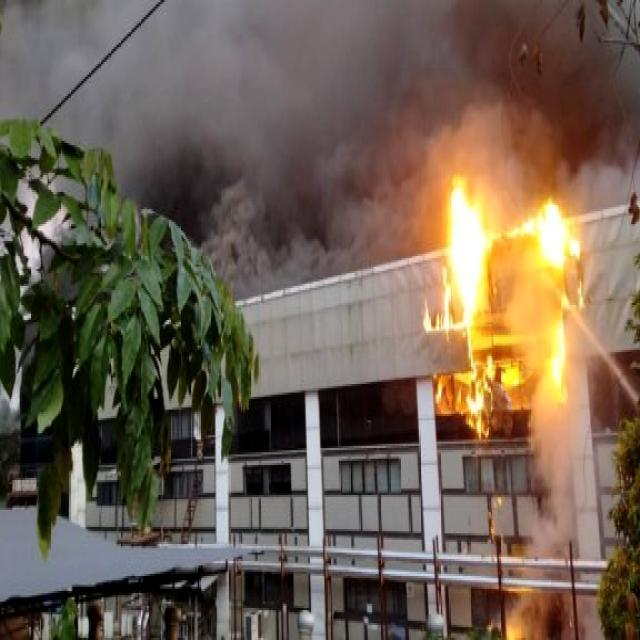Fire: (423, 160, 576, 440)
Smoke: (3, 4, 562, 257)
